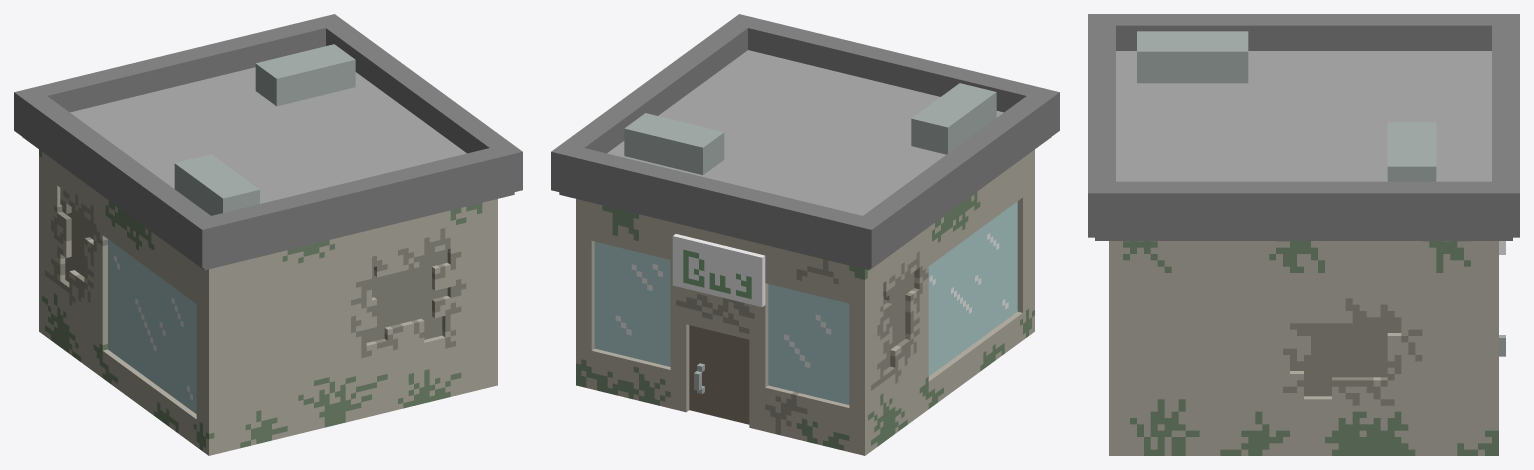
Rendered from badulaque.fbx.
3 renders of one model, left to right at view 1: azimuth 30°, elevation 25°; view 2: azimuth 150°, elevation 25°; view 3: azimuth 270°, elevation 25°, orthographic. The views are drawn at different scales.
Parts seen in each view (by area): view 1: badulaque_61x44x62; view 2: badulaque_61x44x62; view 3: badulaque_61x44x62.
Boxes of the visible parts, x1,y1,x2,y2 form: badulaque_61x44x62: (14, 14, 522, 455); badulaque_61x44x62: (551, 14, 1059, 455); badulaque_61x44x62: (1088, 14, 1519, 455).
Bounding box in the file's own units: 1000 × 721 × 1016.
